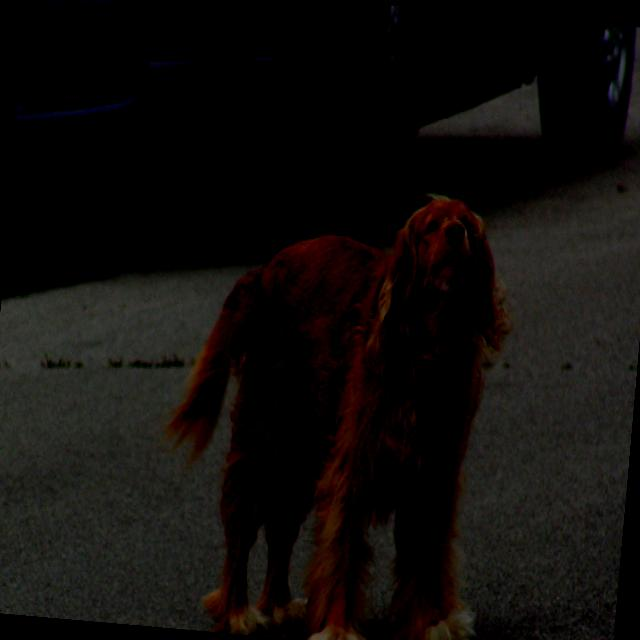Vehicle: (5, 0, 635, 302)
